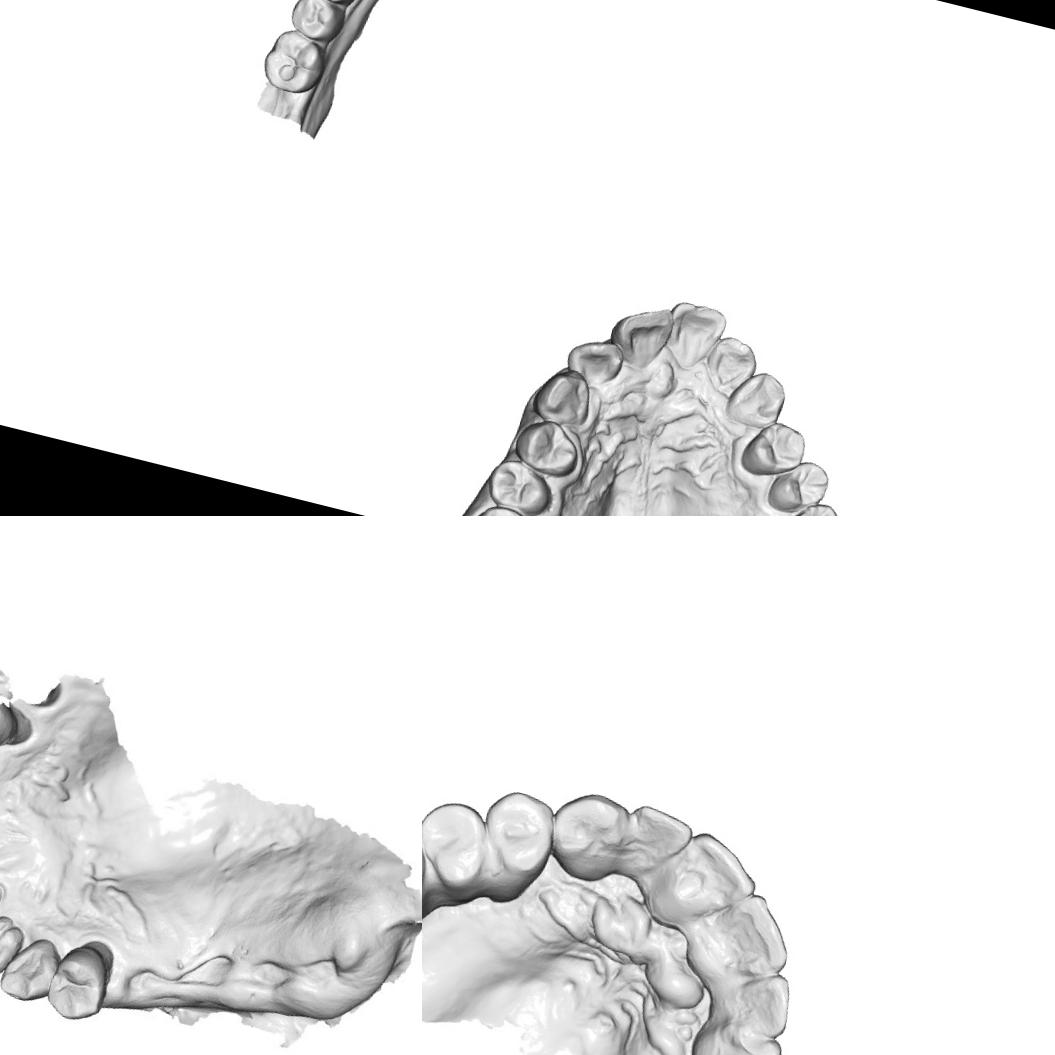canine: (541, 782, 634, 887), (0, 927, 67, 1011), (720, 363, 793, 436), (527, 359, 597, 432), (675, 1010, 788, 1055)
incisor: (657, 824, 766, 925), (700, 883, 804, 983), (602, 296, 680, 376), (618, 798, 698, 876), (656, 296, 730, 379), (733, 964, 800, 1042), (698, 328, 764, 403), (562, 331, 627, 387), (0, 901, 26, 990)
molar: (255, 22, 333, 100), (754, 489, 853, 516)
premolar: (470, 780, 565, 892), (422, 792, 498, 898), (42, 934, 119, 1030), (735, 413, 812, 488), (507, 412, 586, 482), (479, 452, 557, 516), (762, 450, 834, 516), (284, 0, 350, 46), (0, 671, 28, 752)
